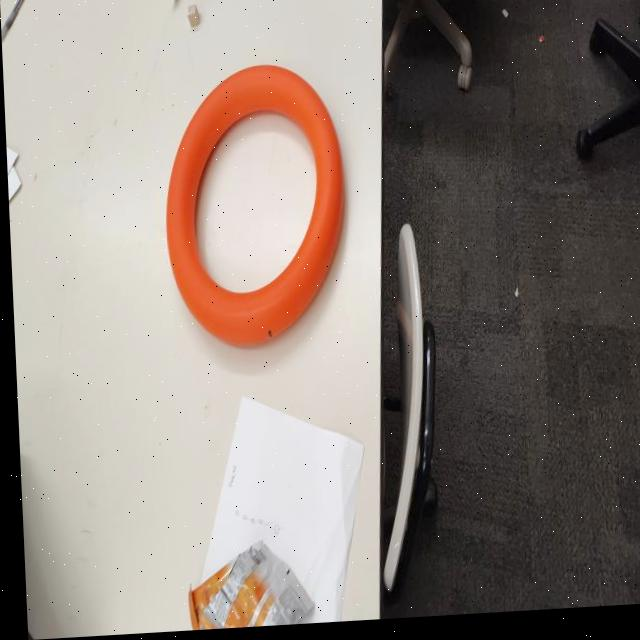note: (158, 64, 350, 354)
